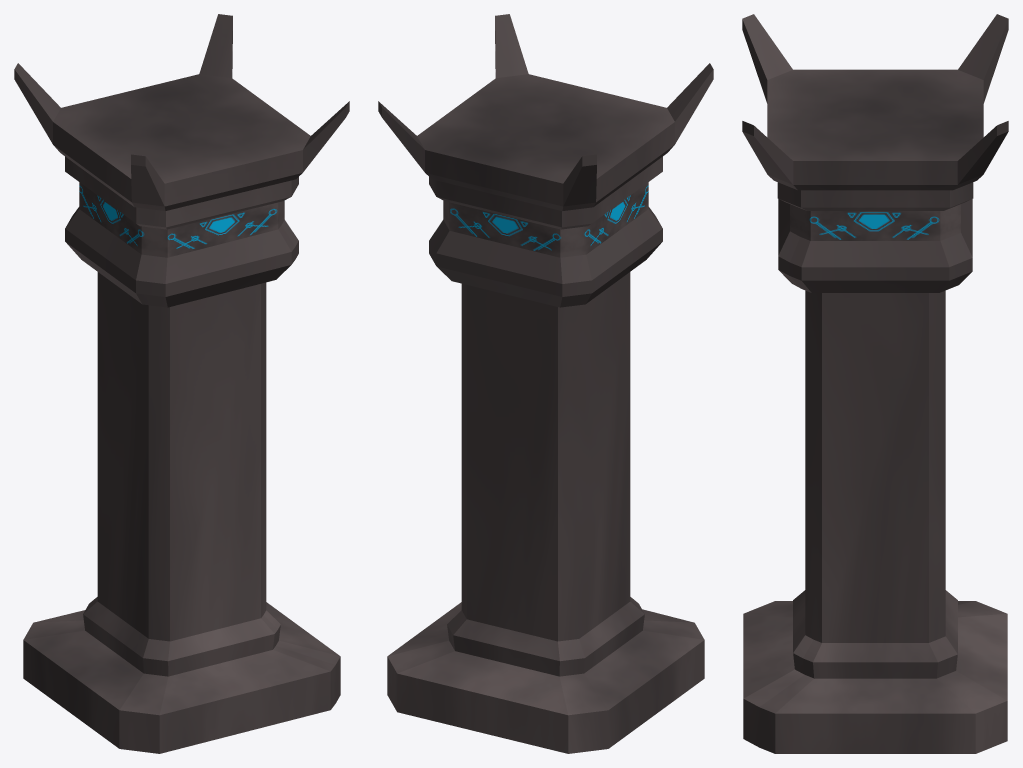
Rendered from Altar.glb.
The picture shows the model from 3 angles, left to right: view 1: azimuth 30°, elevation 25°; view 2: azimuth 150°, elevation 25°; view 3: azimuth 270°, elevation 25°; orthographic projection. The views are drawn at different scales.
Parts seen in each view (by area): view 1: Cube.009; view 2: Cube.009; view 3: Cube.009.
Part boxes in pixels (x1,y1,x2,y2): Cube.009: (14, 14, 349, 753); Cube.009: (378, 14, 713, 753); Cube.009: (742, 14, 1008, 753).
Bounding box in the file's own units: 0.5 × 1.3 × 0.5.
Materials: 1 (1 with a texture image).
